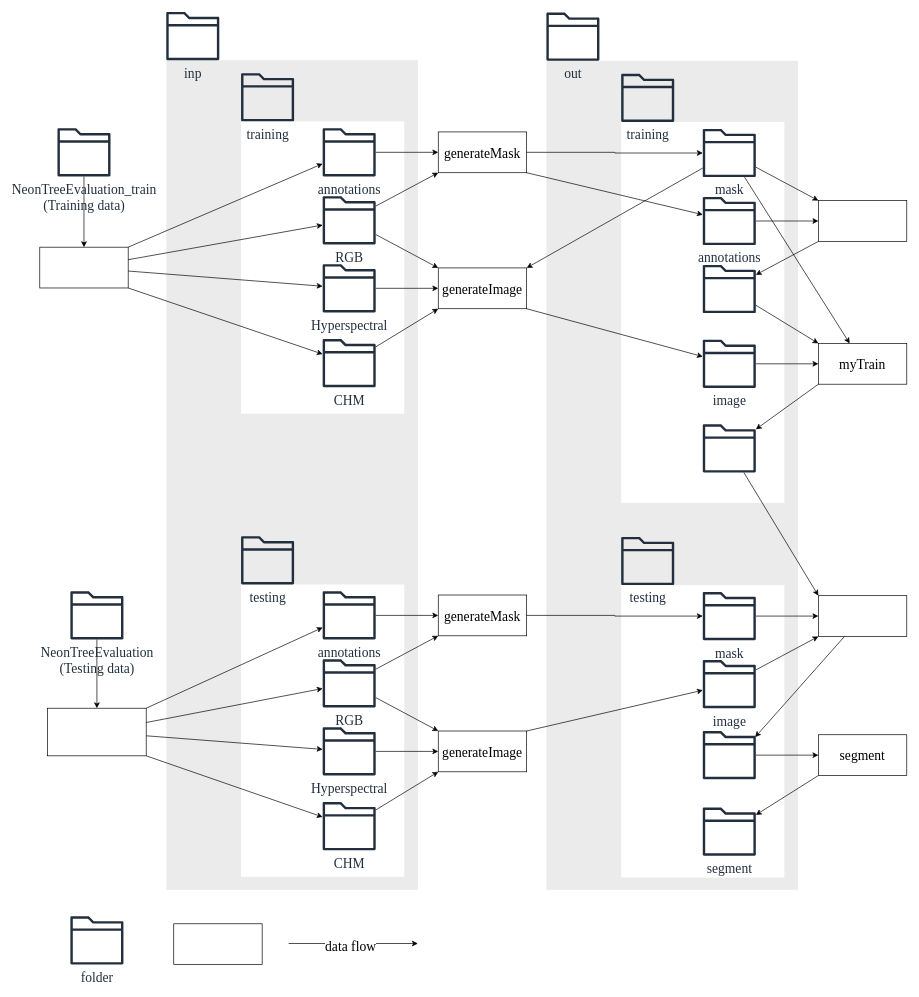
This 919x997 diagram has some shape labels left out. The centre of each missing label's shape, as x and y in pixels:
"function / process file" goes at [217,944].
"generateWeight" goes at [862,220].
"get common testing files.R" goes at [96,732].
"get common training files.R" goes at [83,267].
"model" goes at [728,448].
"myPredict" goes at [862,615].
"prediction" goes at [728,755].
"weight" goes at [728,289].
